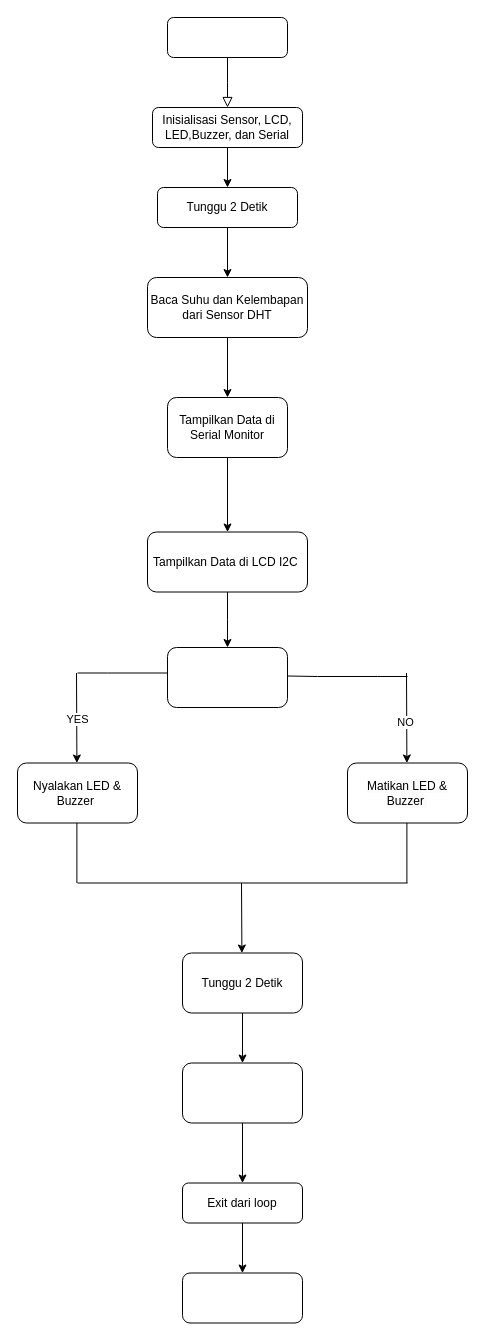
Image size: 485x1341. Some labels were removed from this diagram. The box of each missing label's shape, as (x1, y1, x2, y2) in pixels:
Mulai: (166, 16, 288, 58)
Program Berakhir: (182, 1272, 302, 1323)
Suhu > 20°C ?: (166, 646, 288, 708)
Ulangi Langkah 3: (182, 1062, 302, 1123)
